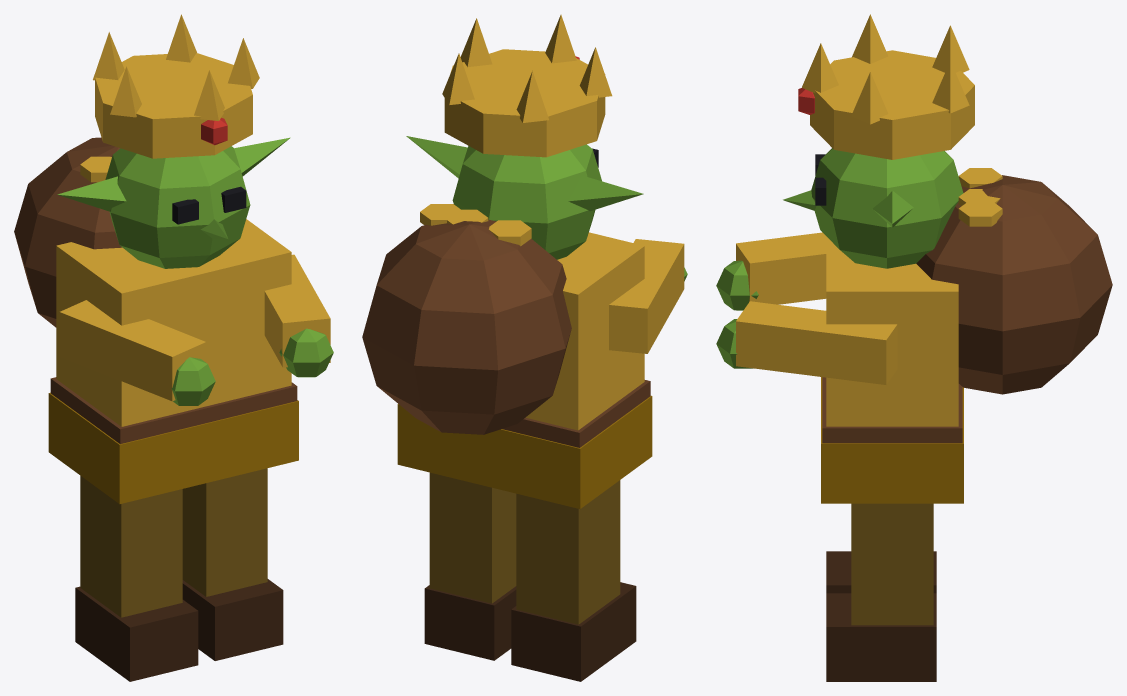
The model's file is e_goldgoblin.fbx.
The picture shows the model from 3 angles, left to right: view 1: azimuth 30°, elevation 25°; view 2: azimuth 150°, elevation 25°; view 3: azimuth 270°, elevation 25°; orthographic projection.
Visible parts, largest first — view 1: e_goldgoblin_Body, e_goldgoblin_LegR, e_goldgoblin_LegL; view 2: e_goldgoblin_Body, e_goldgoblin_LegR, e_goldgoblin_LegL; view 3: e_goldgoblin_Body, e_goldgoblin_LegL, e_goldgoblin_LegR.
Part boxes in pixels (x1=…): e_goldgoblin_Body: x1=14, y1=14, x2=333, y2=503; e_goldgoblin_LegR: x1=75, y1=476, x2=198, y2=681; e_goldgoblin_LegL: x1=182, y1=468, x2=283, y2=660; e_goldgoblin_Body: x1=362, y1=14, x2=687, y2=508; e_goldgoblin_LegR: x1=511, y1=480, x2=636, y2=681; e_goldgoblin_LegL: x1=424, y1=472, x2=516, y2=660; e_goldgoblin_Body: x1=716, y1=14, x2=1112, y2=503; e_goldgoblin_LegL: x1=826, y1=503, x2=936, y2=681; e_goldgoblin_LegR: x1=826, y1=551, x2=936, y2=593.
Size of the model in its own units: 0.4977 by 1.2 by 0.72.
